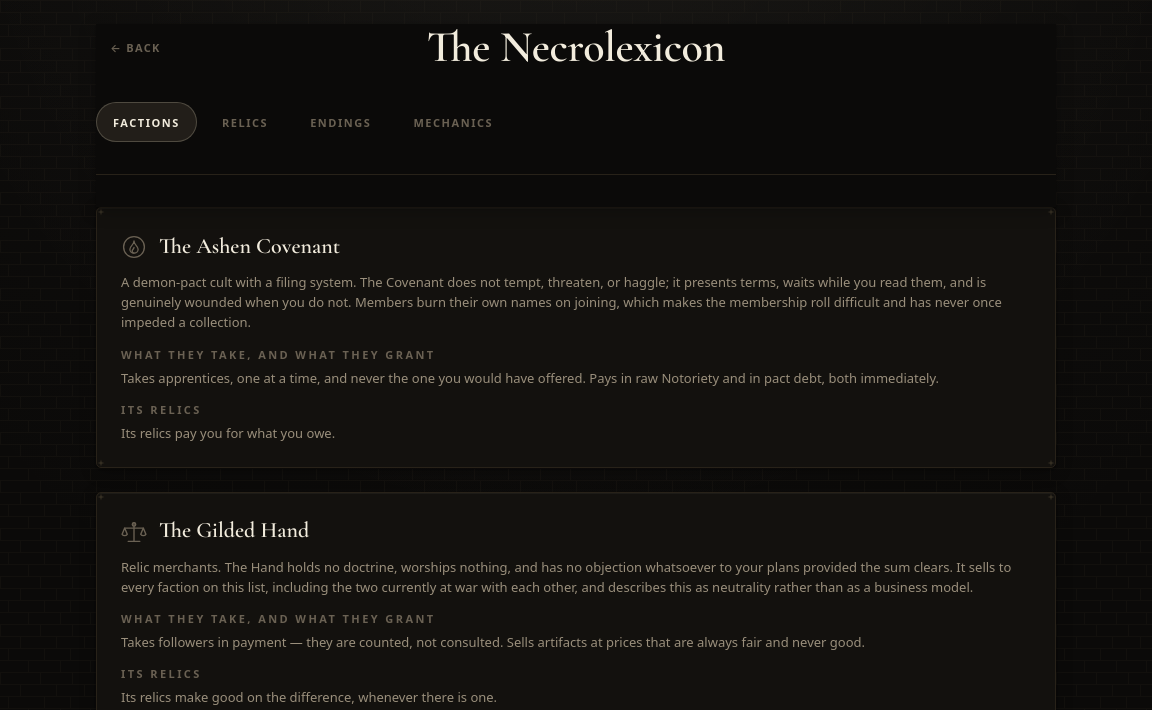
NecrolexiconScreen · the grid shows everything from run one › renders all thirty-two slots for a player who has found nothing
Step 1. Click the tab "Relics" → (245,122), box [205,102,285,142]
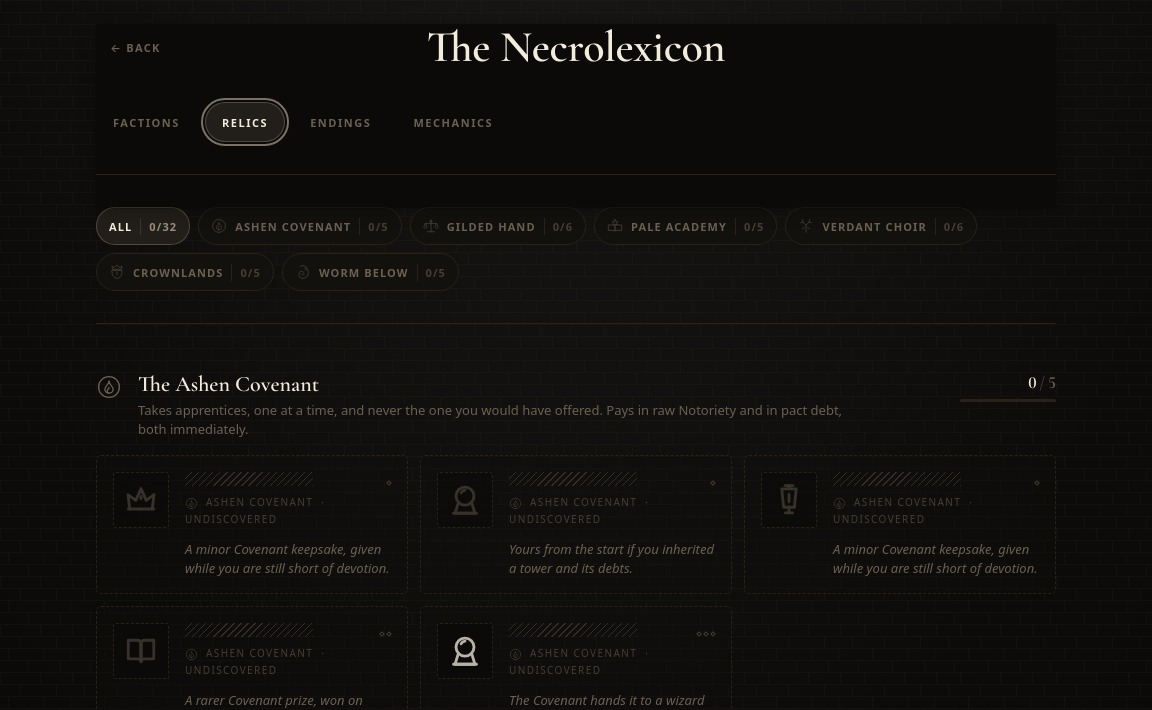
Check: the number of elements named "Undiscovered relic of " is 32
